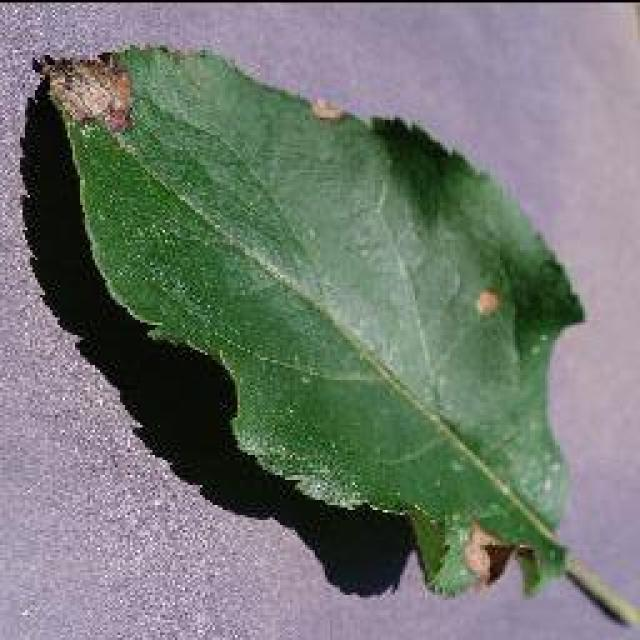Black_rot: (25, 40, 637, 630)
